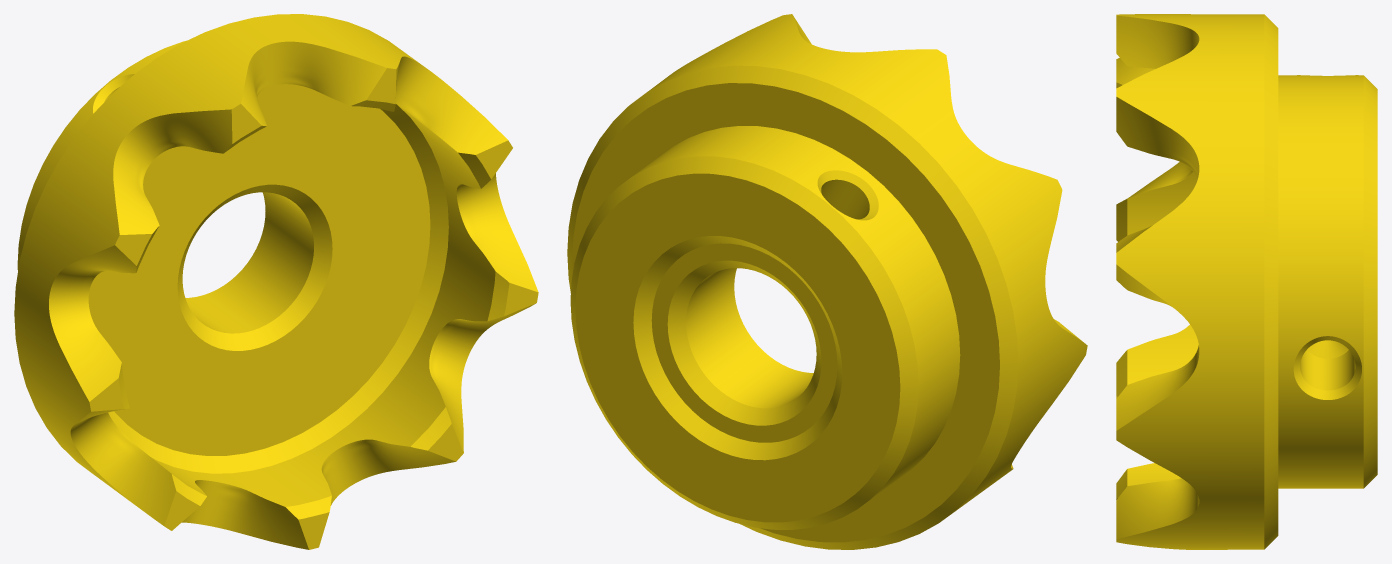
The model's file is A26_W110_crownGear.gltf.
The picture shows the model from 3 angles, left to right: view 1: azimuth 30°, elevation 25°; view 2: azimuth 150°, elevation 25°; view 3: azimuth 270°, elevation 25°; orthographic projection. The views are drawn at different scales.
Parts seen in each view (by area): view 1: mesh5456, mesh5483, mesh5459, mesh5457, mesh5454, mesh5468, mesh5465, mesh5471, mesh5455, mesh5462, mesh5474, mesh5485 (+15 smaller); view 2: mesh5450, mesh5445, mesh5483, mesh5441, mesh5458, mesh5449, mesh5452, mesh5454, mesh5451, mesh5453, mesh5439, mesh5440; view 3: mesh5483, mesh5441, mesh5458, mesh5449, mesh5459, mesh5480, mesh5471, mesh5474, mesh5477, mesh5447, mesh5446, mesh5465 (+4 smaller).
Boxes of the visible parts, <box> form: mesh5456: <box>88,84,430,455</box>; mesh5483: <box>14,14,419,514</box>; mesh5459: <box>151,104,495,506</box>; mesh5457: <box>108,104,448,473</box>; mesh5454: <box>185,192,313,333</box>; mesh5468: <box>113,109,232,234</box>; mesh5465: <box>49,245,136,401</box>; mesh5471: <box>241,41,386,126</box>; mesh5455: <box>177,184,332,350</box>; mesh5462: <box>70,409,176,525</box>; mesh5474: <box>395,56,507,154</box>; mesh5485: <box>182,480,308,549</box>; mesh5450: <box>575,173,900,522</box>; mesh5445: <box>572,83,999,542</box>; mesh5483: <box>648,14,1087,519</box>; mesh5441: <box>633,126,960,503</box>; mesh5458: <box>567,65,1018,549</box>; mesh5449: <box>570,156,918,529</box>; mesh5452: <box>651,243,837,442</box>; mesh5454: <box>686,268,813,408</box>; mesh5451: <box>633,236,842,460</box>; mesh5453: <box>667,260,821,425</box>; mesh5439: <box>821,179,869,219</box>; mesh5440: <box>817,170,878,220</box>; mesh5483: <box>1116,14,1264,549</box>; mesh5441: <box>1278,75,1363,488</box>; mesh5458: <box>1264,14,1278,549</box>; mesh5449: <box>1363,75,1377,488</box>; mesh5459: <box>1127,172,1198,486</box>; mesh5480: <box>1116,478,1199,539</box>; mesh5471: <box>1116,15,1199,68</box>; mesh5474: <box>1116,97,1199,252</box>; mesh5477: <box>1116,264,1199,430</box>; mesh5447: <box>1300,350,1355,390</box>; mesh5446: <box>1293,336,1361,399</box>; mesh5465: <box>1127,162,1193,198</box>.
Size of the model in its own units: 0.0494 by 0.0494 by 0.024.
